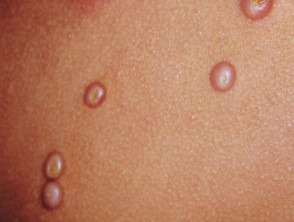Warts: (37, 148, 66, 211), (206, 54, 241, 99), (78, 80, 114, 112), (235, 0, 281, 24)
